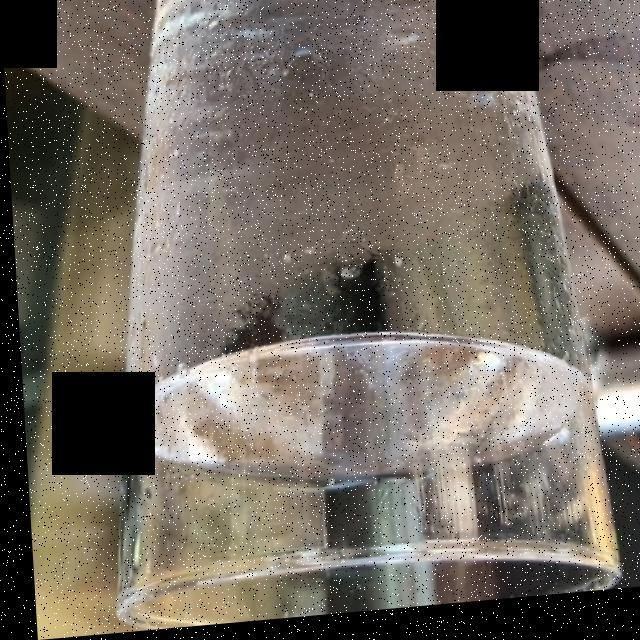water: (128, 0, 585, 541)
